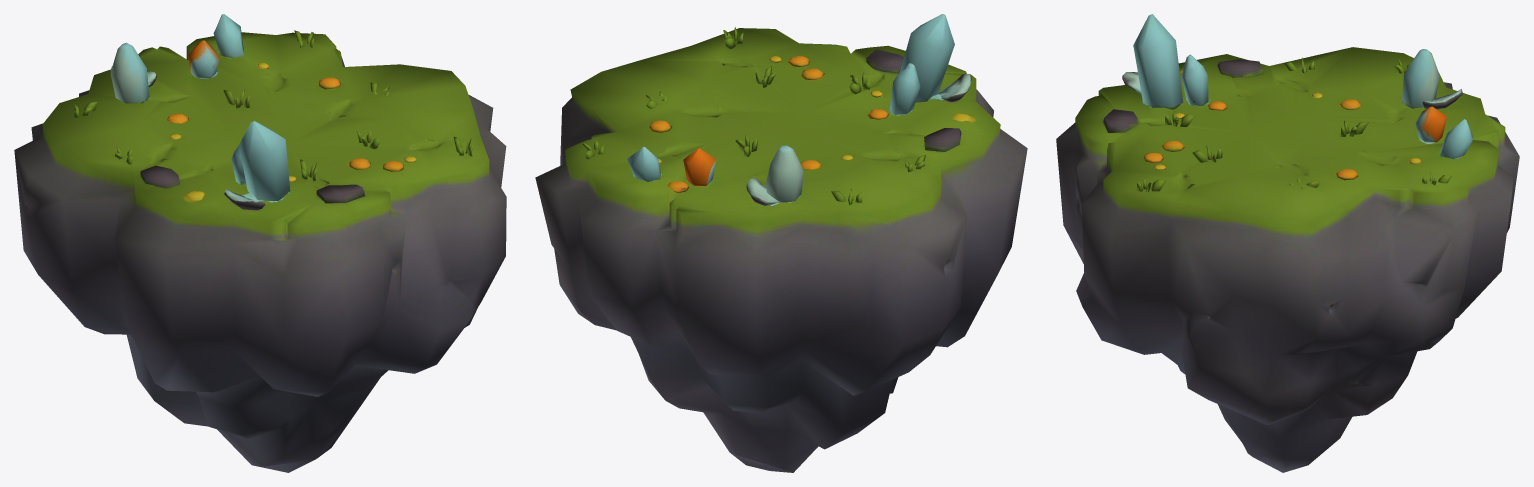
The model's file is floating-rock.glb.
3 renders of one model, left to right at view 1: azimuth 30°, elevation 25°; view 2: azimuth 150°, elevation 25°; view 3: azimuth 270°, elevation 25°, orthographic. The views are drawn at different scales.
Visible parts, largest first — view 1: floating-rock; view 2: floating-rock; view 3: floating-rock.
Boxes of the visible parts, box(x1,y1,x2,y2) form: floating-rock: box(14, 14, 506, 472); floating-rock: box(535, 14, 1027, 472); floating-rock: box(1056, 14, 1519, 472).
Bounding box in the file's own units: 1 × 0.9765 × 1.
Materials: 1 (1 with a texture image).
